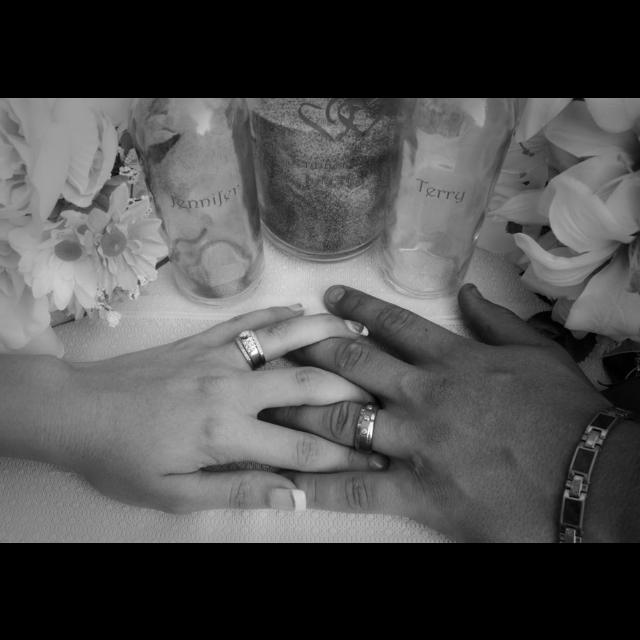Flower: (514, 157, 640, 341), (77, 184, 166, 298), (7, 208, 105, 308)
